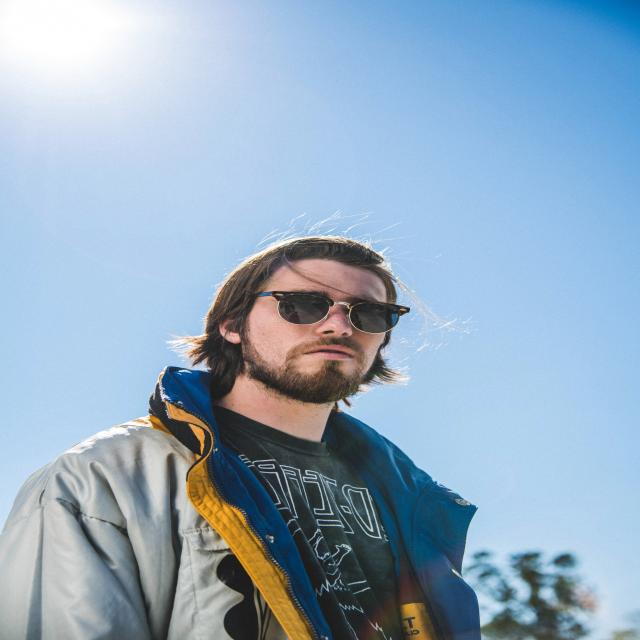adult: (0, 232, 474, 640)
